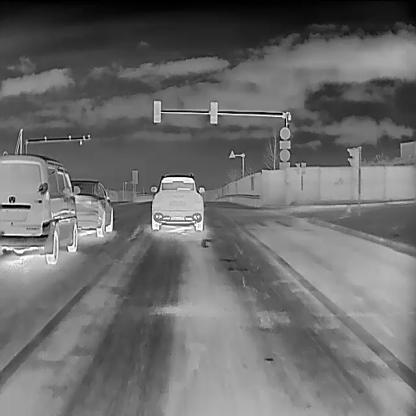car: (0, 152, 80, 264), (150, 171, 205, 231), (67, 177, 114, 237)
